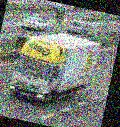car: (67, 17, 91, 38), (21, 15, 47, 34)
